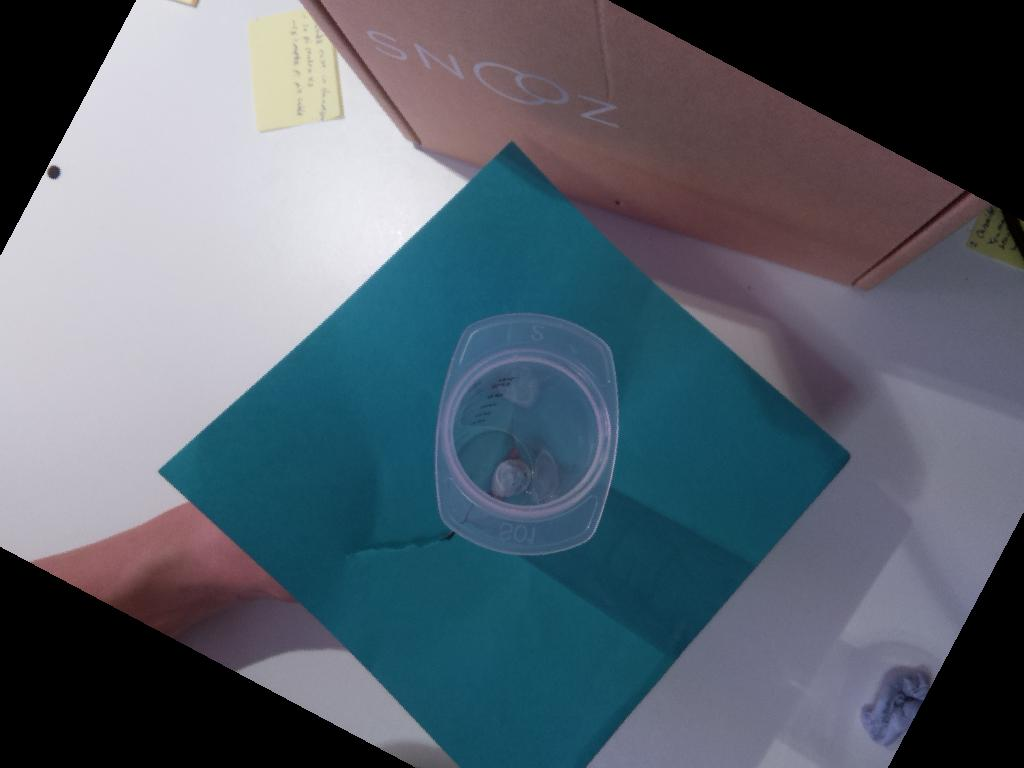clean: (435, 312, 623, 556)
